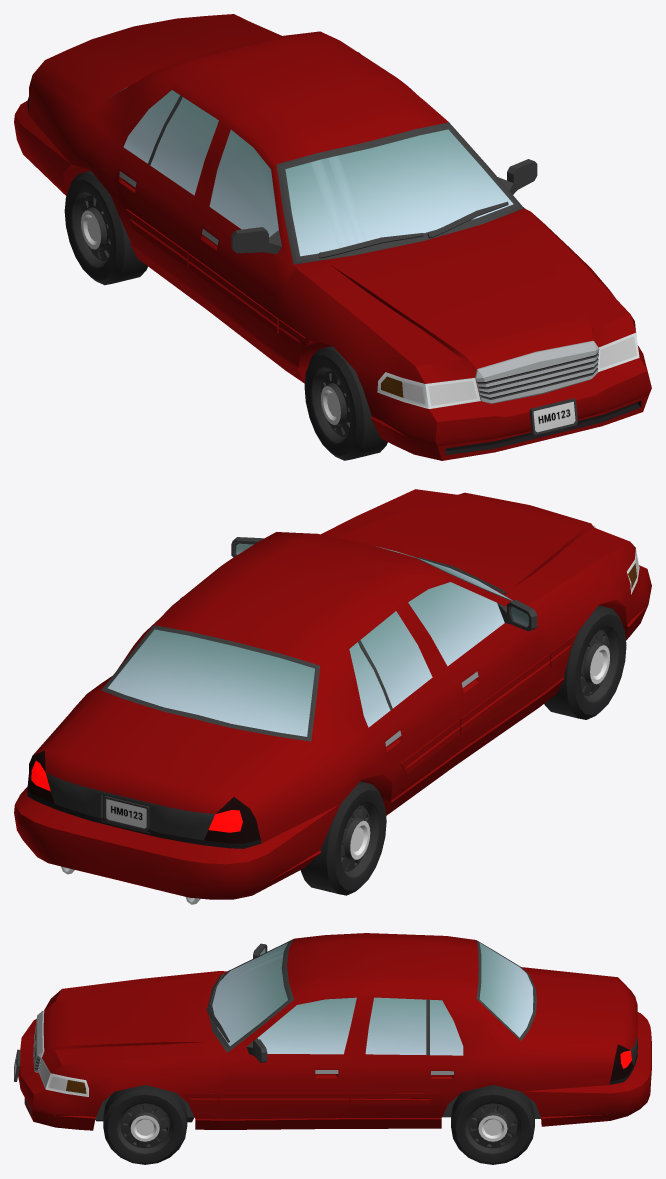
Rendered from Car_stylized.fbx.
The picture shows the model from 3 angles, top to bottom: view 1: azimuth 30°, elevation 25°; view 2: azimuth 150°, elevation 25°; view 3: azimuth 270°, elevation 25°; orthographic projection. The views are drawn at different scales.
Visible parts, largest first — view 1: Car_S, CS_WheelFR, CS_Wheels_B; view 2: Car_S, CS_Wheels_B, CS_WheelFR; view 3: Car_S, CS_WheelFL, CS_Wheels_B.
Boxes of the visible parts, <box> form: Car_S: <box>14,14,651,460</box>; CS_WheelFR: <box>304,346,387,460</box>; CS_Wheels_B: <box>64,171,147,285</box>; Car_S: <box>14,489,651,904</box>; CS_Wheels_B: <box>300,781,386,895</box>; CS_WheelFR: <box>544,605,626,719</box>; Car_S: <box>14,933,651,1130</box>; CS_WheelFL: <box>103,1085,187,1164</box>; CS_Wheels_B: <box>451,1085,534,1164</box>.
Size of the model in its own units: 84.97 by 59.55 by 213.
